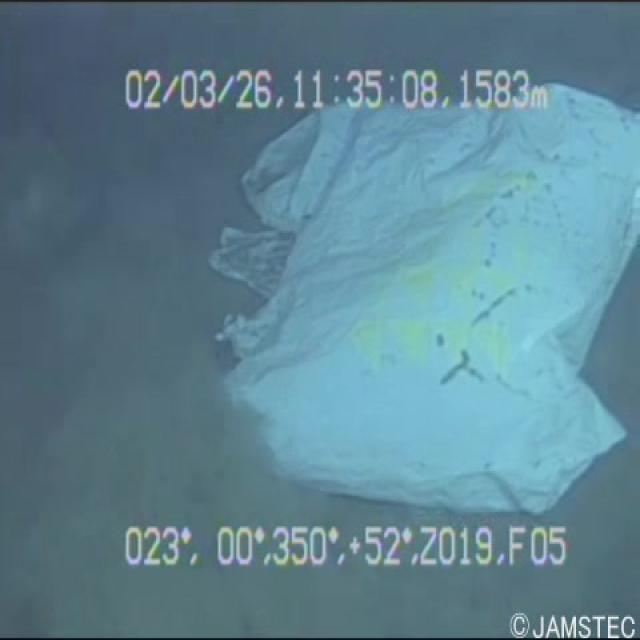plastic: (204, 55, 639, 528)
